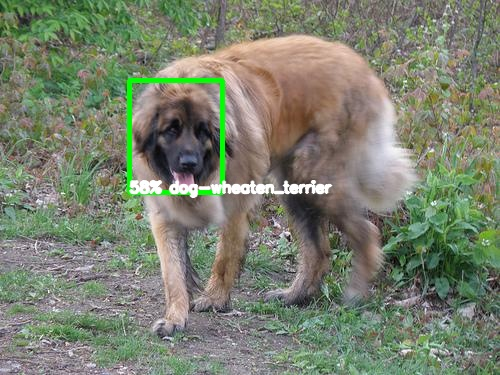dog-leonberger: (129, 86, 235, 194)
